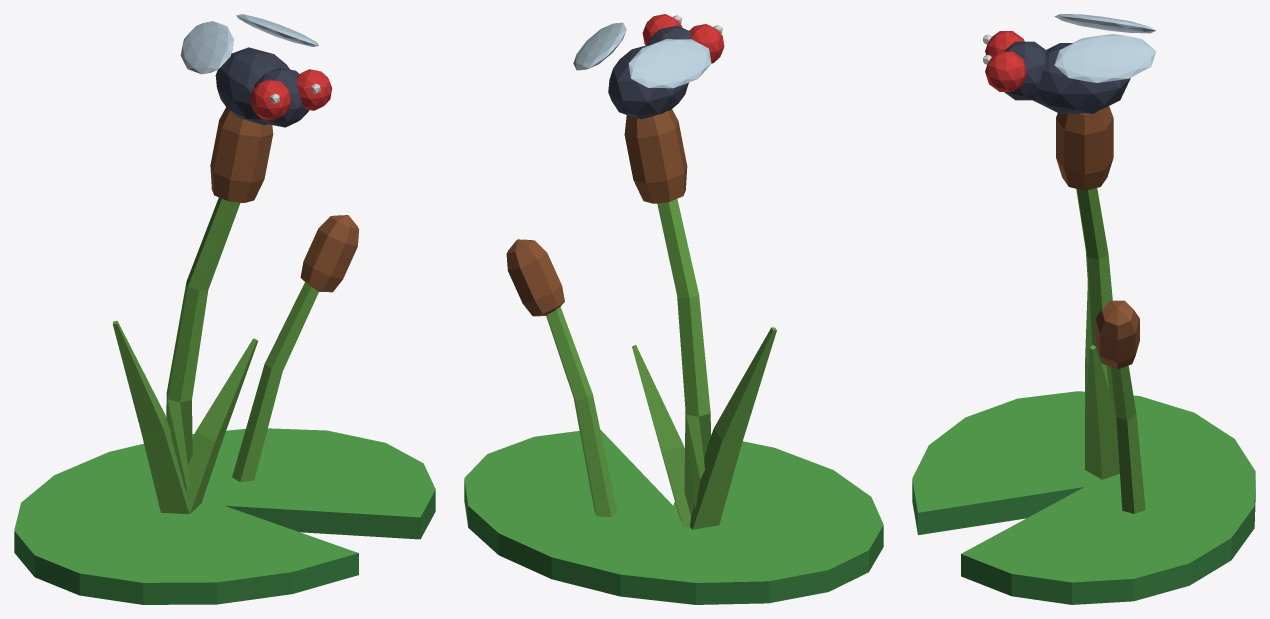
File: habitat_prop_froggo.fbx
The picture shows the model from 3 angles, left to right: view 1: azimuth 30°, elevation 25°; view 2: azimuth 150°, elevation 25°; view 3: azimuth 270°, elevation 25°; orthographic projection.
Parts seen in each view (by area): view 1: habitat_prop_froggo; view 2: habitat_prop_froggo; view 3: habitat_prop_froggo.
Boxes of the visible parts, <box> form: habitat_prop_froggo: <box>14,14,435,604</box>; habitat_prop_froggo: <box>464,14,883,604</box>; habitat_prop_froggo: <box>912,14,1255,604</box>.
Size of the model in its own units: 1.1 by 1.33 by 0.8329.
